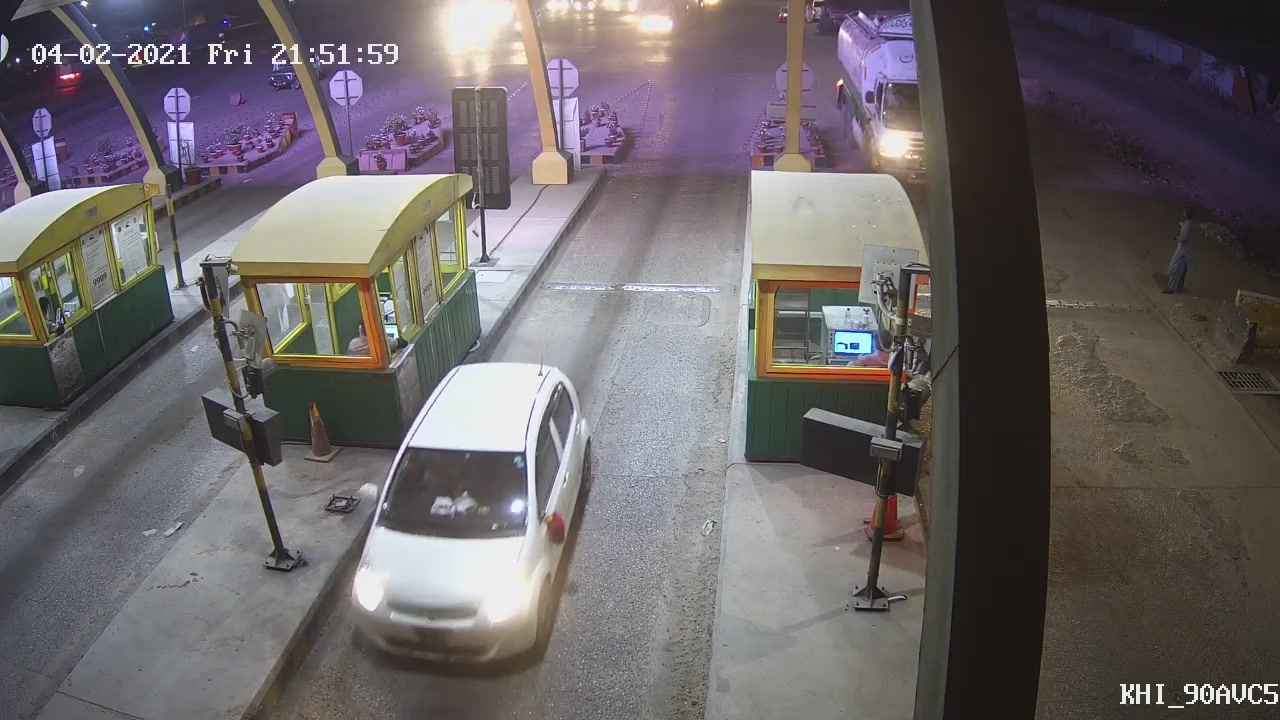F3: (346, 353, 596, 676)
